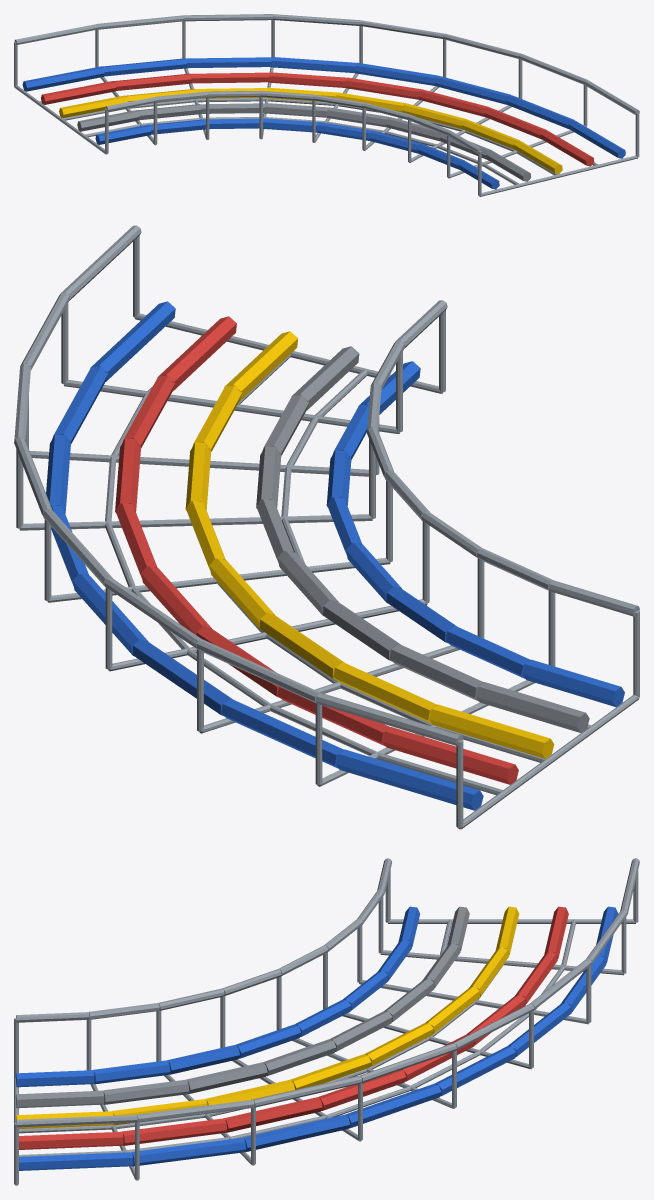
File: 28_Cable_Tray_Corner_90.fbx
3 views of the same model, one above another, from view 1: azimuth 30°, elevation 25°; view 2: azimuth 150°, elevation 25°; view 3: azimuth 270°, elevation 25° (orthographic). The views are drawn at different scales.
Visible parts, largest first — view 1: 28_Cable_Tray_Corner_90; view 2: 28_Cable_Tray_Corner_90; view 3: 28_Cable_Tray_Corner_90.
Boxes of the visible parts, x1,y1,x2,y2 form: 28_Cable_Tray_Corner_90: (14,14,639,196); 28_Cable_Tray_Corner_90: (14,225,639,829); 28_Cable_Tray_Corner_90: (14,858,639,1185).
Size of the model in its own units: 0.758 by 0.088 by 0.758.
